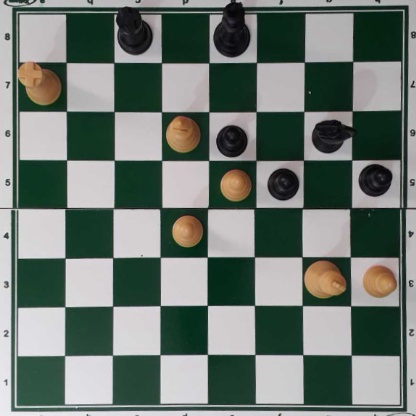black-king: (212, 1, 252, 59)
black-knight: (314, 118, 352, 154)
black-pawn: (358, 162, 392, 197), (214, 121, 248, 156), (267, 166, 299, 201)
black-rook: (113, 8, 154, 55)
white-bishop: (165, 111, 201, 154)
white-king: (303, 258, 346, 299)
white-pawn: (360, 263, 397, 299), (218, 167, 251, 202), (170, 214, 203, 246)
white-rook: (16, 63, 63, 106)
